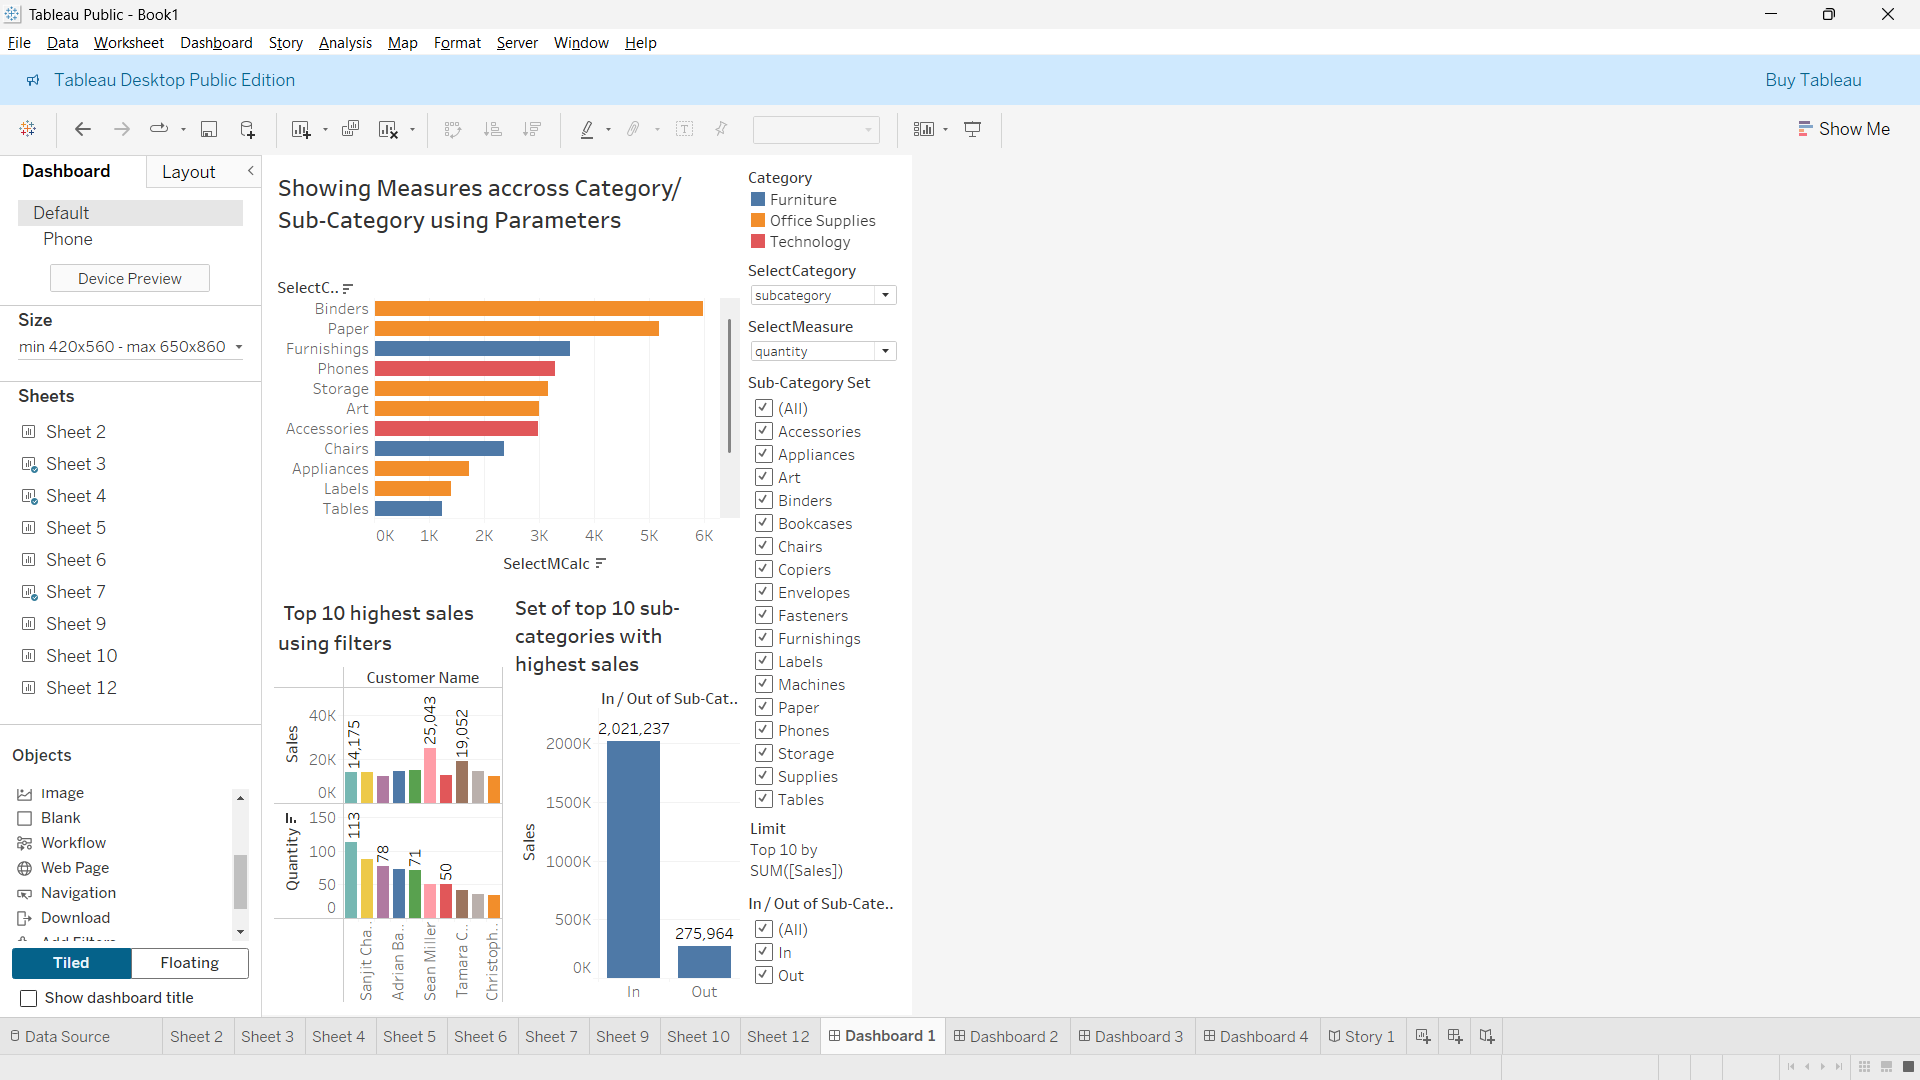

Layout of this report page (visuals, bound fields, positions):
{"tool":"tableau","page":{"name":"Dashboard 1","canvas":[650,860],"ordinal":0},"visuals":[{"type":"worksheet","title":"Sheet 3","mark":"Automatic","rows":["Calculation_1770477628960694273"],"cols":["Calculation_1770477628966739970"],"box":[8,8,474,422]},{"type":"legend","title":"Sheet 3","param":"[federated.1mjna6y103fx9n1esx44g04ma0pt].[none:Category:nk]","box":[482,8,160,93]},{"type":"parameter","param":"[Parameters].[Parameter 1]","box":[482,101,160,56]},{"type":"parameter","param":"[Parameters].[Parameter 2]","box":[482,157,160,56]},{"type":"blank","box":[482,213,160,521]},{"type":"setMembership","title":"Sheet 7","param":"[federated.1mjna6y103fx9n1esx44g04ma0pt].[Sub-Category Set]","box":[482,213,160,521]},{"type":"worksheet","title":"Sheet 4","mark":"Automatic","rows":["Sales","Quantity"],"cols":["Customer Name"],"box":[8,430,237,422]},{"type":"worksheet","title":"Sheet 7","mark":"Automatic","rows":["Sales"],"cols":["Sub-Category Set"],"box":[245,430,237,422]},{"type":"filter","title":"Sheet 7","param":"[federated.1mjna6y103fx9n1esx44g04ma0pt].[io:Sub-Category Set:nk]","box":[482,734,160,105]}]}

Visuals, with their boxes on the page's 650x860 design canvas (x1, y1, x2, y2). These are canvas units, not pixel positions in the 1920x1080 screenshot, which may show the page scaled, cropped or inside an application window:
"Sheet 3" worksheet: select_region(8, 8, 482, 430)
"Sheet 3" legend: select_region(482, 8, 642, 101)
parameter: select_region(482, 101, 642, 157)
parameter: select_region(482, 157, 642, 213)
blank: select_region(482, 213, 642, 734)
"Sheet 7" setMembership: select_region(482, 213, 642, 734)
"Sheet 4" worksheet: select_region(8, 430, 245, 852)
"Sheet 7" worksheet: select_region(245, 430, 482, 852)
"Sheet 7" filter: select_region(482, 734, 642, 839)
